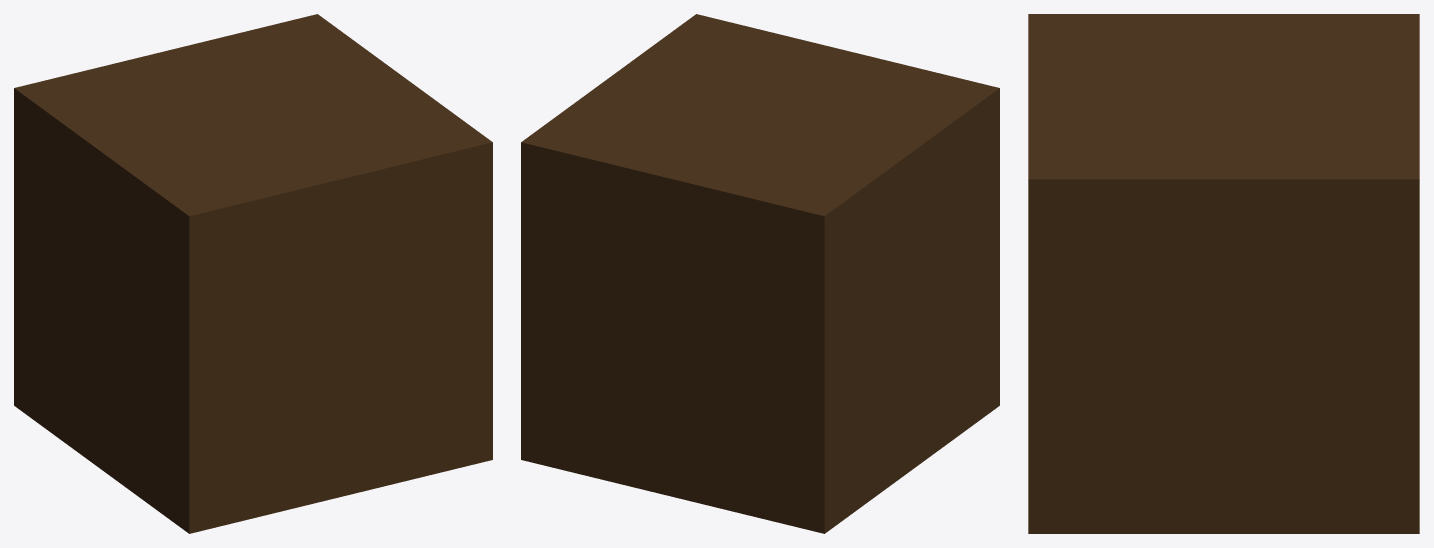
File: prop_crate.glb
The picture shows the model from 3 angles, left to right: view 1: azimuth 30°, elevation 25°; view 2: azimuth 150°, elevation 25°; view 3: azimuth 270°, elevation 25°; orthographic projection. The views are drawn at different scales.
Parts seen in each view (by area): view 1: Cube; view 2: Cube; view 3: Cube.
Part boxes in pixels (x1,y1,x2,y2): Cube: (14,14,492,533); Cube: (521,14,999,533); Cube: (1028,14,1419,533).
Size of the model in its own units: 1 by 1 by 1.
